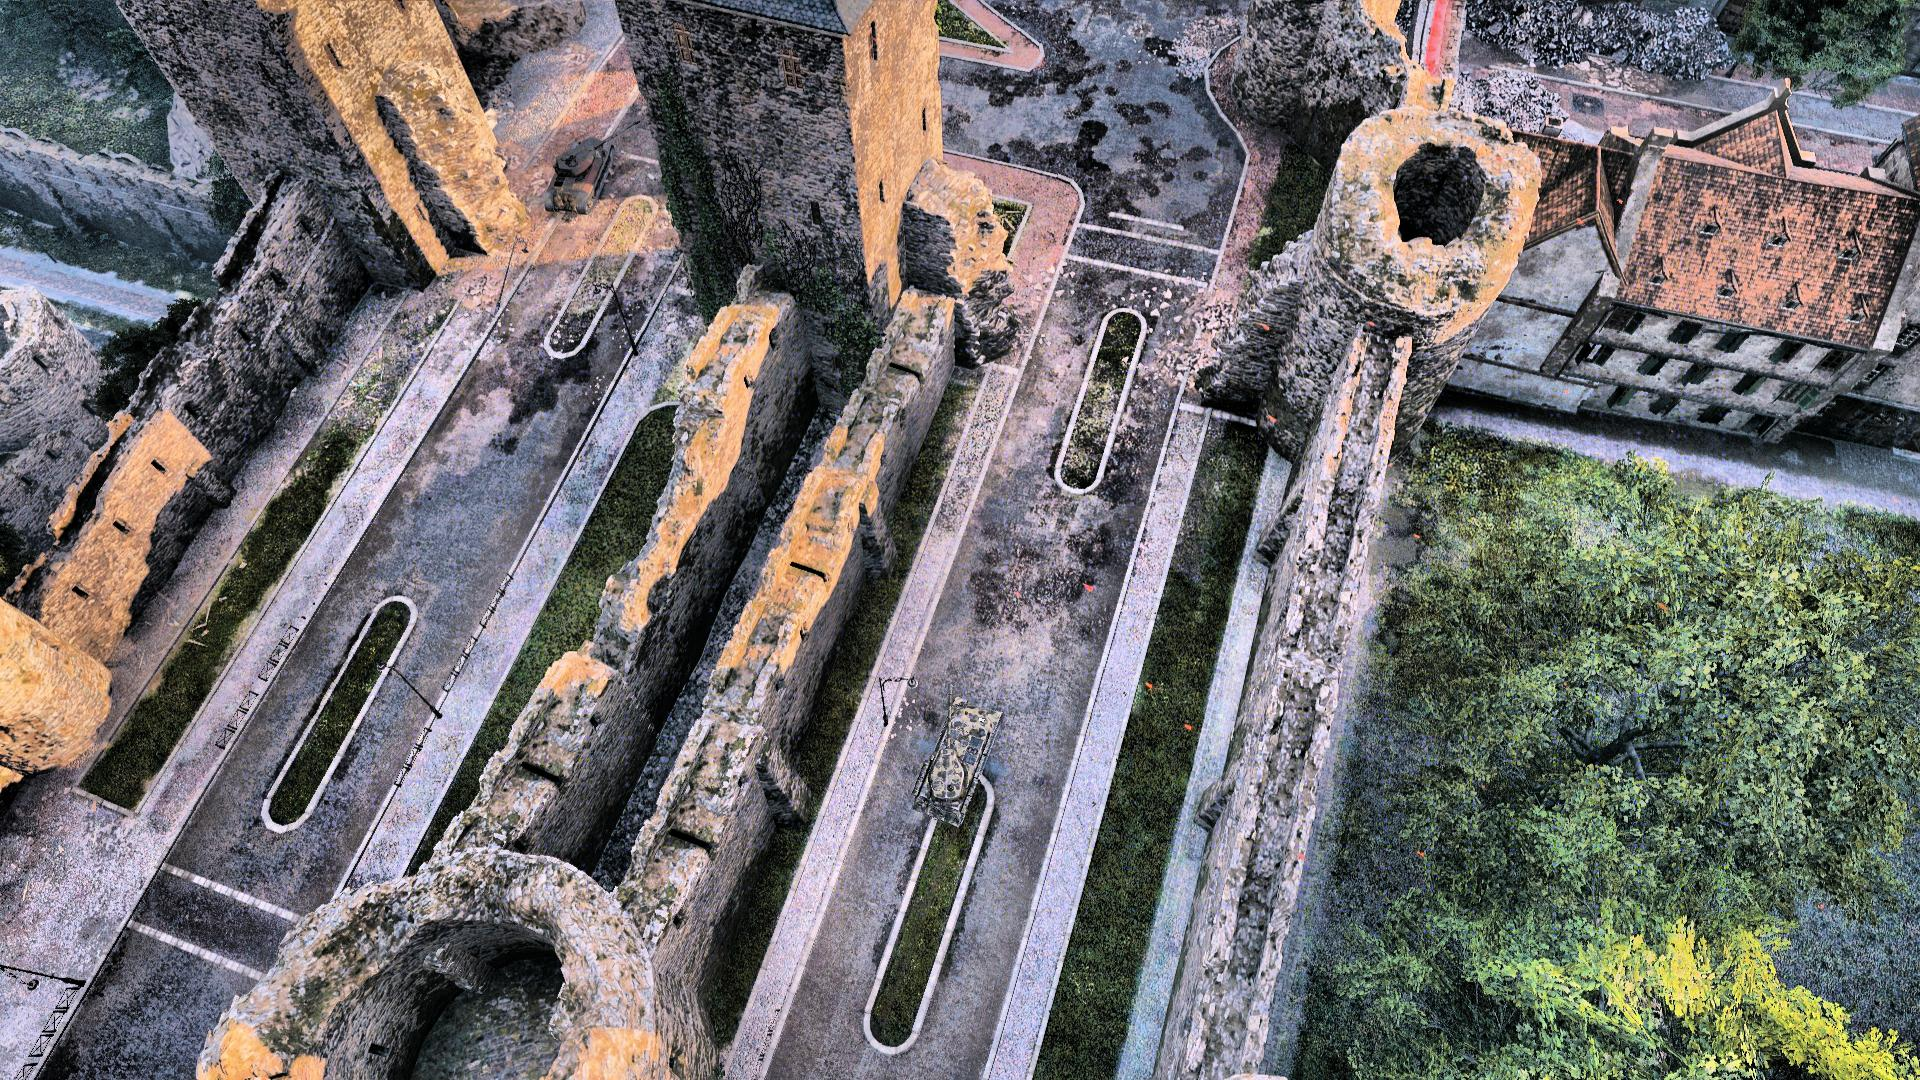military-vehicle: (911, 676, 1004, 828), (541, 116, 645, 216)
